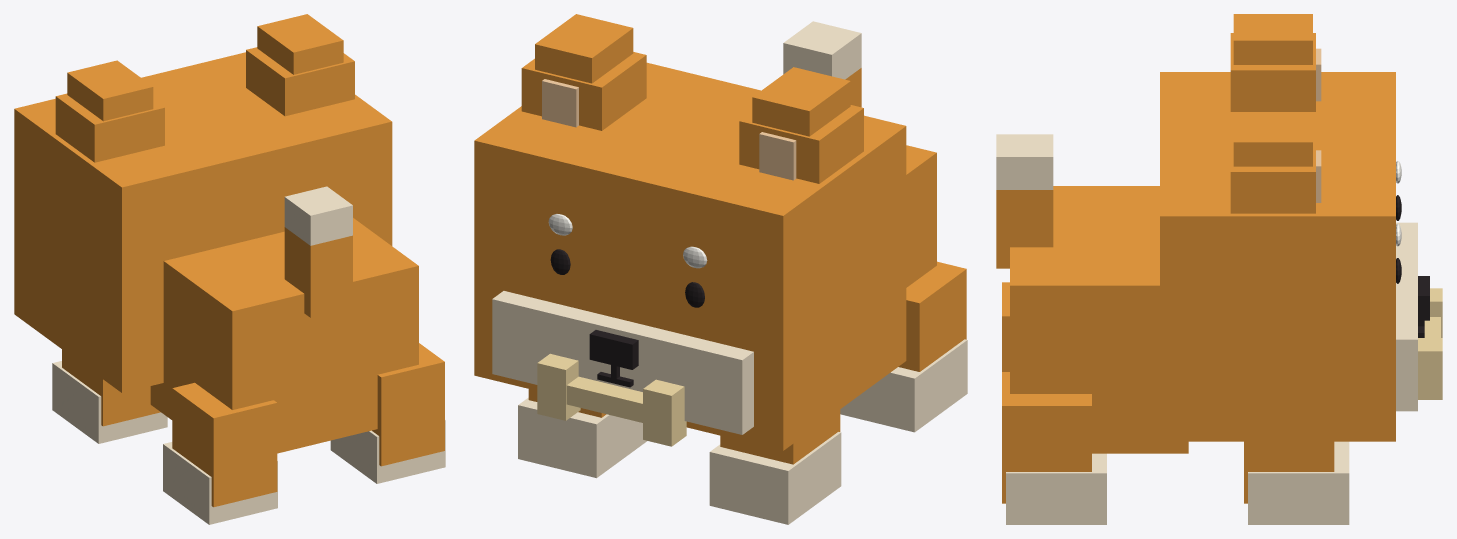
The model's file is Shiba_Block.gltf.
The picture shows the model from 3 angles, left to right: view 1: azimuth 30°, elevation 25°; view 2: azimuth 150°, elevation 25°; view 3: azimuth 270°, elevation 25°; orthographic projection. The views are drawn at different scales.
Parts seen in each view (by area): view 1: BigHead, ShortTorso, LegBL_Leg, LegBR_Leg, EarL_Base, EarR_Base, TailRoot, EarR_BluntTop, EarL_BluntTop, LegBL_Paw, LegFL_Paw, TailCreamTip (+2 smaller); view 2: BigHead, CreamMuzzle, LegFL_Paw, LegFR_Paw, LegBL_Paw, LegBL_Leg, EarL_BluntTop, EarR_BluntTop, EarL_Base, EarR_Base, ShortTorso, TailCreamTip (+7 smaller); view 3: BigHead, ShortTorso, LegBR_Leg, LegFR_Paw, LegBR_Paw, EarR_Base, EarL_Base, EarR_BluntTop, EarL_BluntTop, CreamMuzzle, TailRoot, TailCreamTip (+4 smaller).
Boxes of the visible parts, x1,y1,x2,y2 form: BigHead: (14, 52, 392, 392); ShortTorso: (150, 218, 418, 453); LegBL_Leg: (172, 382, 277, 507); LegBR_Leg: (372, 343, 444, 466); EarL_Base: (55, 93, 164, 162); EarR_Base: (246, 47, 354, 116); TailRoot: (284, 227, 352, 317); EarR_BluntTop: (257, 14, 343, 74); EarL_BluntTop: (67, 60, 153, 121); LegBL_Paw: (163, 442, 277, 524); LegFL_Paw: (52, 361, 167, 443); TailCreamTip: (284, 186, 352, 245); BigHead: (474, 62, 906, 450); CreamMuzzle: (492, 291, 753, 434); LegFL_Paw: (709, 432, 841, 524); LegFR_Paw: (518, 397, 646, 478); LegBL_Paw: (840, 339, 967, 432); LegBL_Leg: (898, 261, 966, 371); EarL_BluntTop: (752, 67, 850, 136); EarR_BluntTop: (535, 14, 633, 83); EarL_Base: (739, 105, 863, 183); EarR_Base: (521, 52, 646, 130); ShortTorso: (906, 145, 936, 287); TailCreamTip: (783, 21, 861, 79); BigHead: (1160, 72, 1395, 441); ShortTorso: (1010, 186, 1188, 453); LegBR_Leg: (1002, 372, 1091, 503); LegFR_Paw: (1248, 441, 1349, 524); LegBR_Paw: (1006, 453, 1106, 524); EarR_Base: (1230, 134, 1315, 213); EarL_Base: (1230, 33, 1315, 111); EarR_BluntTop: (1233, 115, 1312, 166); EarL_BluntTop: (1233, 14, 1312, 64); CreamMuzzle: (1396, 222, 1417, 411); TailRoot: (996, 190, 1053, 268); TailCreamTip: (996, 134, 1053, 189).
Size of the model in its own units: 2.16 by 2.67 by 2.82.
